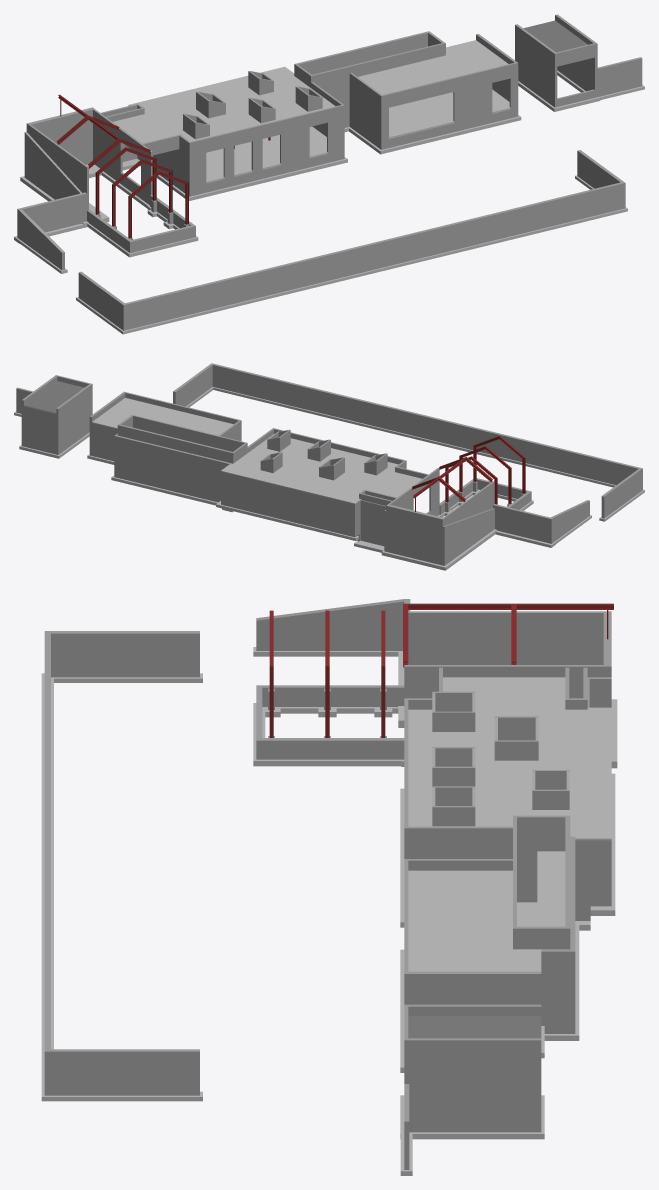
The model's file is steel-concrete.glb.
3 views of the same model, one above another, from view 1: azimuth 30°, elevation 25°; view 2: azimuth 150°, elevation 25°; view 3: azimuth 270°, elevation 25° (orthographic). The views are drawn at different scales.
Visible parts, largest first — view 1: Wall Walls <2312623 CIP_12" Concrete<, Wall Walls <2136168 CIP_8" Concrete<, Floor Floors <2184123 2 1/2" Conc on 1 1/2" Comp Deck<, Wall Walls <2134490 CIP_8" Concrete<, Floor Floors <2144017 2 1/2" Conc on 1 1/2" Comp Deck<, Wall Walls <2181251 CIP_8" Concrete<, Wall Walls <2137488 CIP_10" Concrete<, Floor Floors <2144656 4" SOG<, Floor Floors <2144578 4" SOG<, WallFoundation Structural Foundations <2312799 _Size<, Wall Walls <2134839 CIP_8" Concrete<, Wall Walls <2215085 CIP_8" Concrete< (+20 smaller); view 2: Wall Walls <2312623 CIP_12" Concrete<, Floor Floors <2184123 2 1/2" Conc on 1 1/2" Comp Deck<, Wall Walls <2136964 CIP_20" Concrete<, Wall Walls <2169531 CIP_10" Concrete<, Wall Walls <2129207 CIP_16" Concrete<, Floor Floors <2144017 2 1/2" Conc on 1 1/2" Comp Deck<, Wall Walls <2137488 CIP_10" Concrete<, Wall Walls <2255002 CIP_16" Concrete<, Wall Walls <2167672 CIP_12" Concrete<, Wall Walls <2292922 CIP_10" Concrete<, Wall Walls <2181251 CIP_8" Concrete<, WallFoundation Structural Foundations <2312799 _Size< (+17 smaller); view 3: Floor Floors <2184123 2 1/2" Conc on 1 1/2" Comp Deck<, Wall Walls <2137752 CIP_10" Concrete<, Floor Floors <2144017 2 1/2" Conc on 1 1/2" Comp Deck<, Wall Walls <2312436 CIP_12" Concrete<, Wall Walls <2312676 CIP_12" Concrete<, Wall Walls <2298501 CIP_8" Concrete<, Wall Walls <2312340 CIP_12" Concrete<, Wall Walls <2255002 CIP_16" Concrete<, Wall Walls <2136431 CIP_8" Concrete<, Wall Walls <2138147 CIP_12" Concrete<, Wall Walls <2215085 CIP_8" Concrete<, Wall Walls <2312623 CIP_12" Concrete< (+28 smaller).
Boxes of the visible parts, left/top/right/bottom form: Wall Walls <2312623 CIP_12" Concrete<: left=125, top=181, right=625, bottom=329; Wall Walls <2136168 CIP_8" Concrete<: left=190, top=104, right=344, bottom=195; Floor Floors <2184123 2 1/2" Conc on 1 1/2" Comp Deck<: left=113, top=66, right=335, bottom=143; Wall Walls <2134490 CIP_8" Concrete<: left=382, top=62, right=515, bottom=149; Floor Floors <2144017 2 1/2" Conc on 1 1/2" Comp Deck<: left=358, top=40, right=508, bottom=94; Wall Walls <2181251 CIP_8" Concrete<: left=312, top=42, right=445, bottom=127; Wall Walls <2137488 CIP_10" Concrete<: left=515, top=24, right=557, bottom=107; Floor Floors <2144656 4" SOG<: left=389, top=89, right=510, bottom=138; Floor Floors <2144578 4" SOG<: left=206, top=126, right=327, bottom=182; WallFoundation Structural Foundations <2312799 _Size<: left=128, top=207, right=627, bottom=332; Wall Walls <2134839 CIP_8" Concrete<: left=349, top=72, right=383, bottom=149; Wall Walls <2215085 CIP_8" Concrete<: left=98, top=113, right=152, bottom=204; Wall Walls <2312623 CIP_12" Concrete<: left=210, top=363, right=639, bottom=485; Floor Floors <2184123 2 1/2" Conc on 1 1/2" Comp Deck<: left=221, top=434, right=422, bottom=504; Wall Walls <2136964 CIP_20" Concrete<: left=114, top=434, right=232, bottom=502; Wall Walls <2169531 CIP_10" Concrete<: left=223, top=472, right=352, bottom=536; Wall Walls <2129207 CIP_16" Concrete<: left=384, top=504, right=442, bottom=564; Floor Floors <2144017 2 1/2" Conc on 1 1/2" Comp Deck<: left=92, top=398, right=233, bottom=435; Wall Walls <2137488 CIP_10" Concrete<: left=56, top=383, right=92, bottom=454; Wall Walls <2255002 CIP_16" Concrete<: left=441, top=508, right=494, bottom=565; Wall Walls <2167672 CIP_12" Concrete<: left=493, top=504, right=552, bottom=543; Wall Walls <2292922 CIP_10" Concrete<: left=117, top=424, right=234, bottom=463; Wall Walls <2181251 CIP_8" Concrete<: left=131, top=414, right=245, bottom=451; WallFoundation Structural Foundations <2312799 _Size<: left=212, top=387, right=615, bottom=487; Floor Floors <2184123 2 1/2" Conc on 1 1/2" Comp Deck<: left=408, top=677, right=611, bottom=840; Wall Walls <2137752 CIP_10" Concrete<: left=404, top=1038, right=541, bottom=1132; Floor Floors <2144017 2 1/2" Conc on 1 1/2" Comp Deck<: left=408, top=870, right=541, bottom=971; Wall Walls <2312436 CIP_12" Concrete<: left=44, top=631, right=199, bottom=677; Wall Walls <2312676 CIP_12" Concrete<: left=51, top=1049, right=199, bottom=1095; Wall Walls <2298501 CIP_8" Concrete<: left=408, top=611, right=611, bottom=663; Wall Walls <2312340 CIP_12" Concrete<: left=256, top=599, right=404, bottom=650; Wall Walls <2255002 CIP_16" Concrete<: left=410, top=628, right=603, bottom=664; Wall Walls <2136431 CIP_8" Concrete<: left=408, top=826, right=512, bottom=858; Wall Walls <2138147 CIP_12" Concrete<: left=256, top=738, right=404, bottom=759; Wall Walls <2215085 CIP_8" Concrete<: left=404, top=665, right=583, bottom=698; Wall Walls <2312623 CIP_12" Concrete<: left=44, top=633, right=50, bottom=1095.
Size of the model in its own units: 206 by 29.29 by 95.25.
